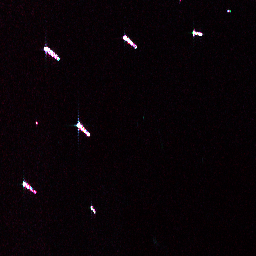ship: (119, 32, 141, 52), (41, 43, 63, 63), (72, 119, 93, 139), (19, 177, 39, 198), (190, 29, 204, 38), (88, 203, 97, 216)
